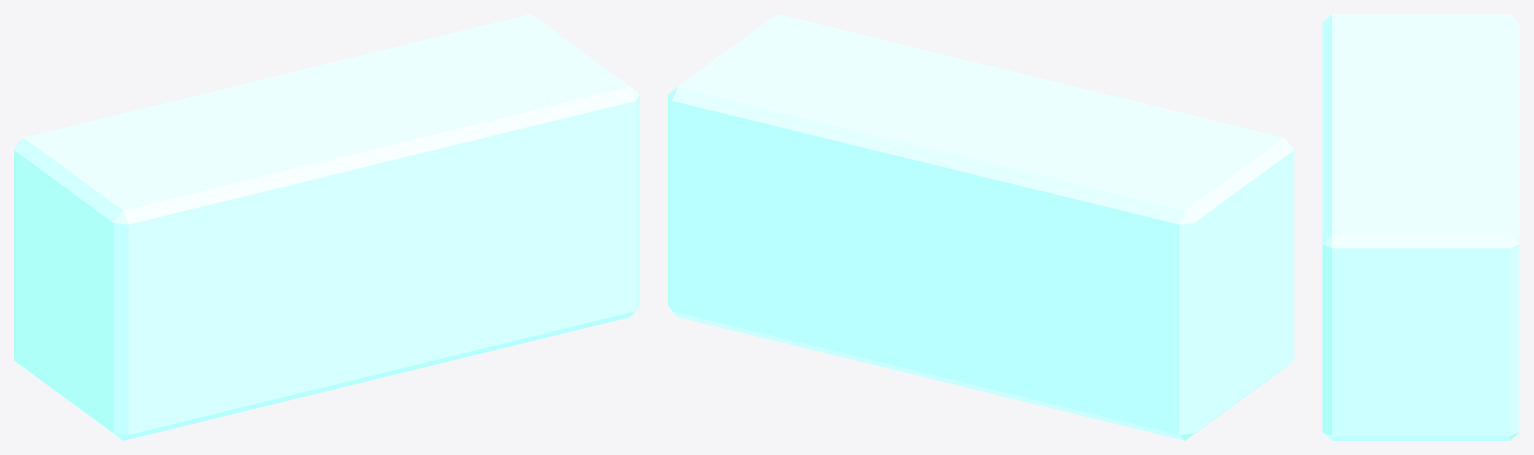
Rendered from emergency-light.glb.
The picture shows the model from 3 angles, left to right: view 1: azimuth 30°, elevation 25°; view 2: azimuth 150°, elevation 25°; view 3: azimuth 270°, elevation 25°; orthographic projection. The views are drawn at different scales.
Parts seen in each view (by area): view 1: Safety lamp; view 2: Safety lamp; view 3: Safety lamp.
Part boxes in pixels (bbox=[...]): Safety lamp: bbox=[14, 14, 639, 440]; Safety lamp: bbox=[668, 14, 1293, 440]; Safety lamp: bbox=[1322, 14, 1519, 440].
Size of the model in its own units: 0.55 by 0.23 by 0.2.
